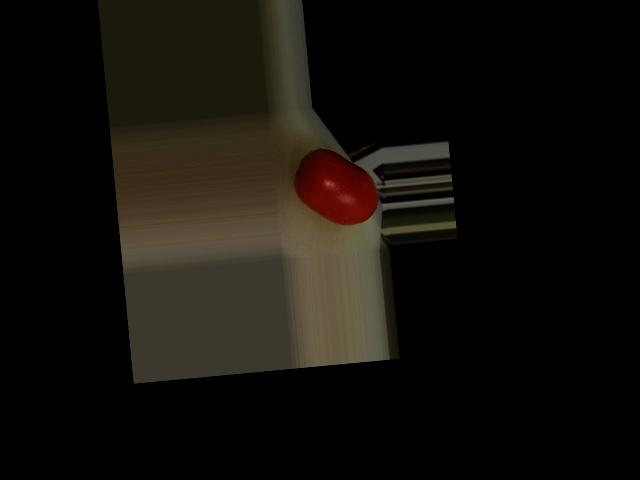tomato: (291, 144, 380, 230)
